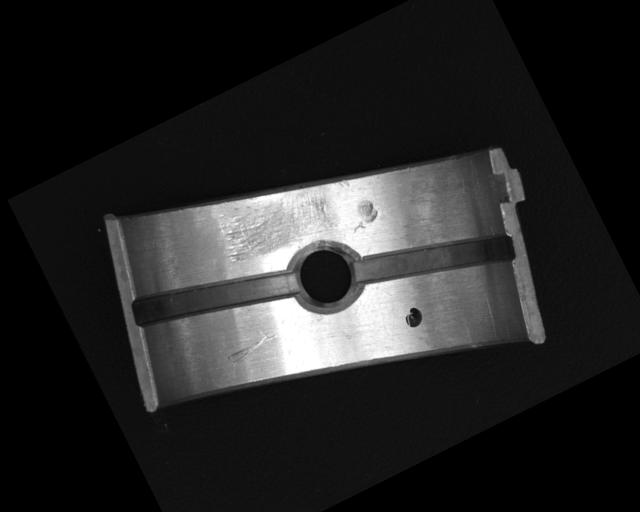blot: (400, 304, 426, 330)
bruise: (341, 195, 383, 235), (333, 174, 352, 192)
gap: (350, 194, 519, 326), (129, 232, 300, 361)
hole: (277, 227, 374, 326)
nick: (224, 329, 280, 367)
scratch: (207, 165, 346, 279)
